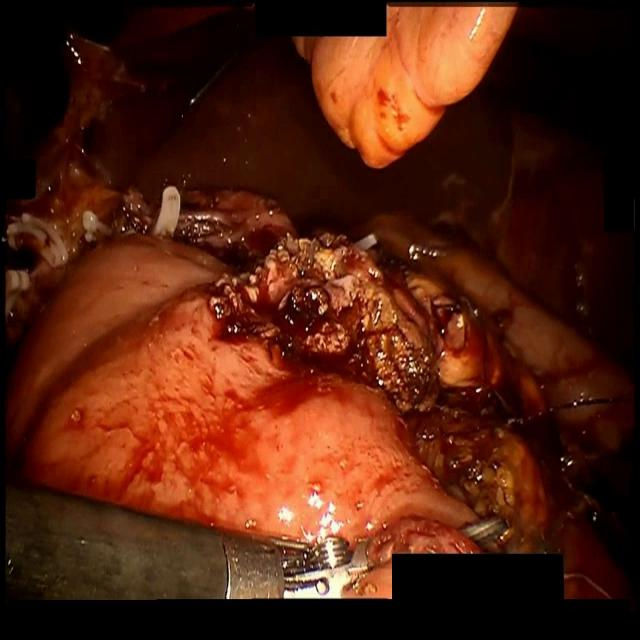surgical-area: (5, 0, 640, 603)
surgical-tool: (4, 486, 372, 604)
